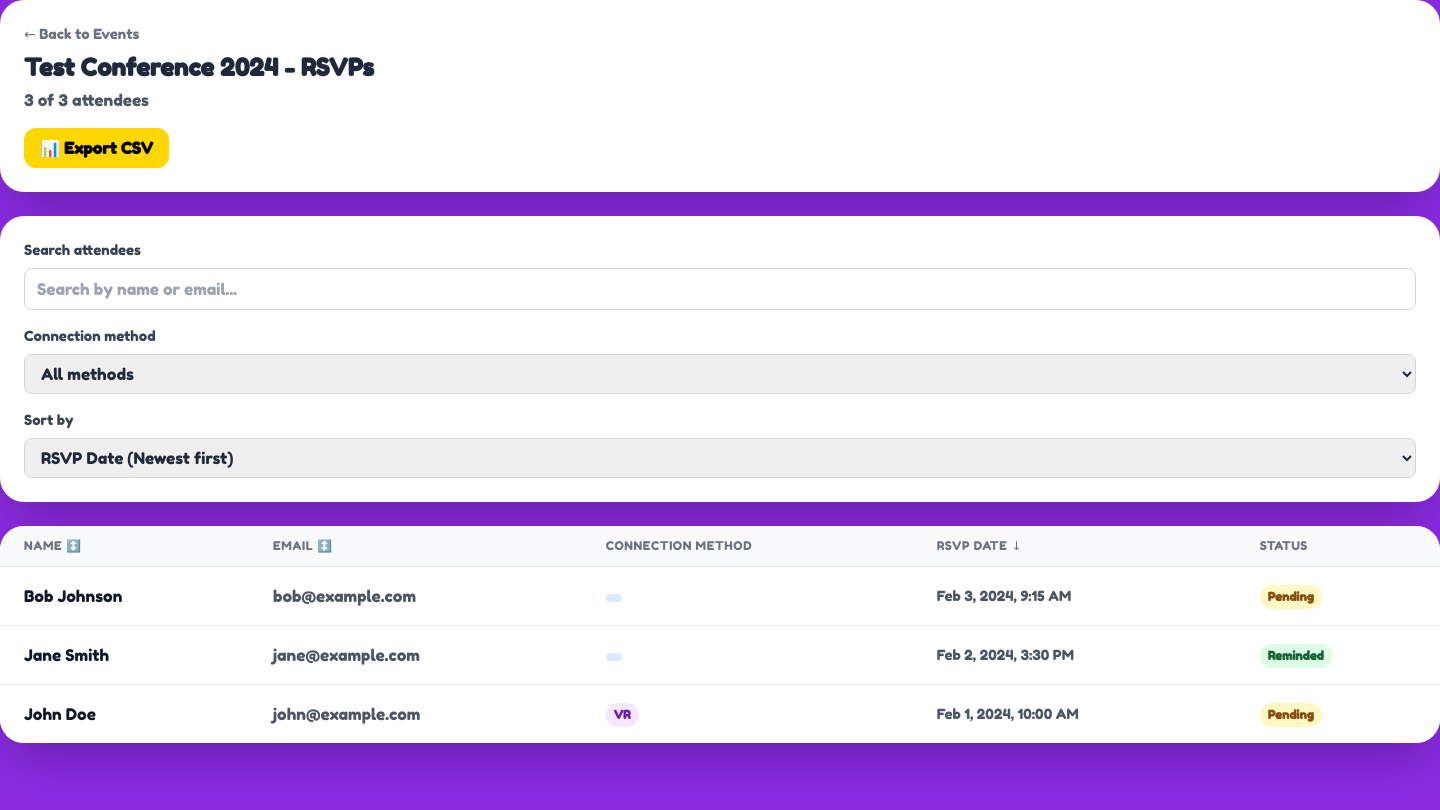
Test: RsvpList Component › Search and Filter Functionality › should filter RSVPs by connection method
This screenshot has width=1440, height=810.
Check: the text "John Doe" is shown, box [24,704,96,724]
Select "VR" in the 1st dropdown showing "All methods" at (720,374), box [24,354,1416,394]
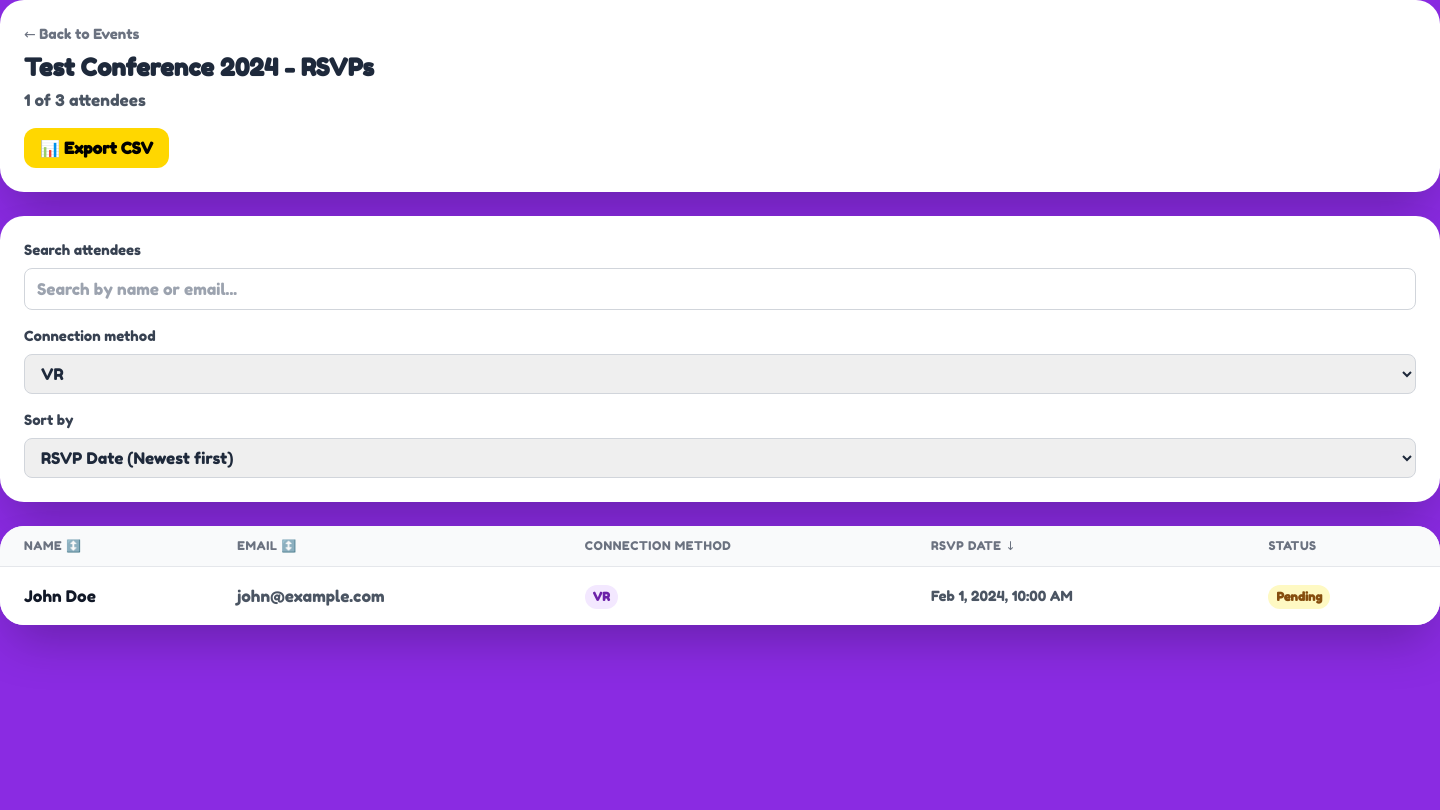
Check: the text "John Doe" is shown, box [24,586,96,606]
Check: the text "Jane Smith" is gone
Check: the text "Bob Johnson" is gone
